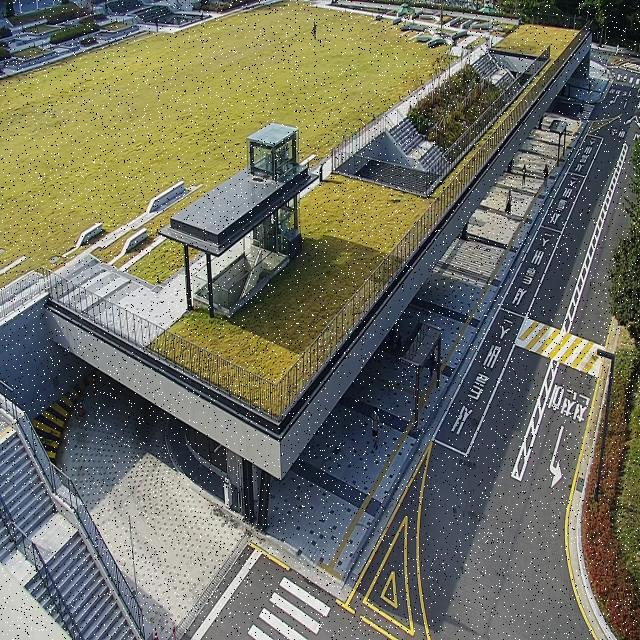queue: (414, 328, 441, 428)
